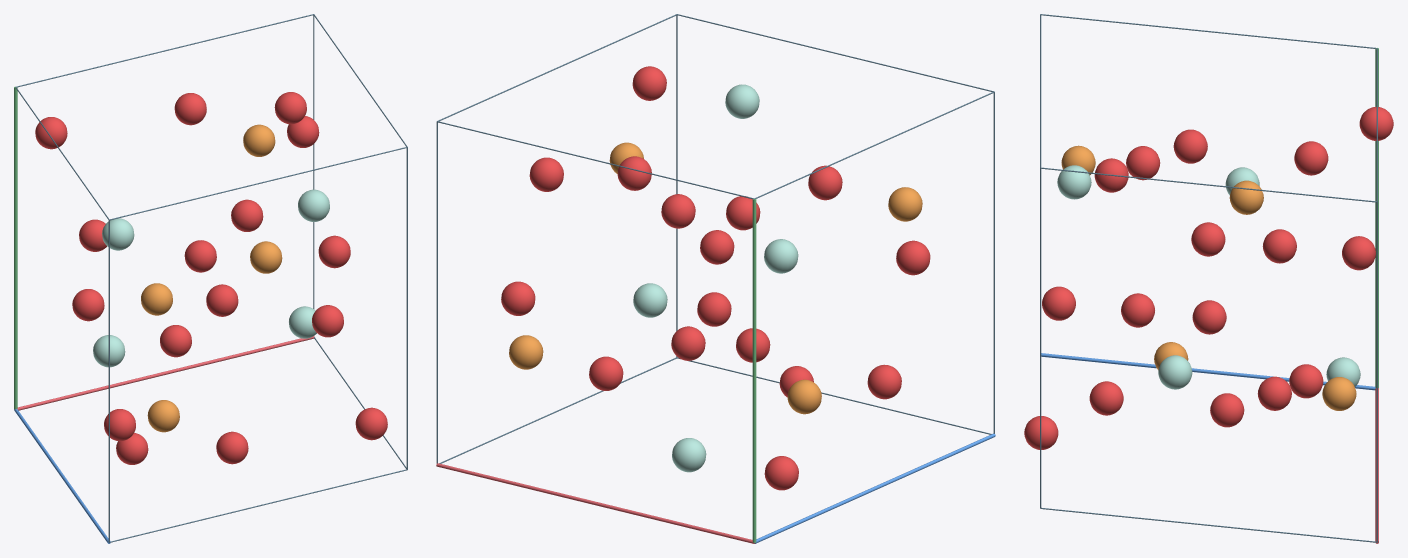
File: monazite.glb
3 views of the same model, side by side, from view 1: azimuth 30°, elevation 25°; view 2: azimuth 150°, elevation 25°; view 3: azimuth 270°, elevation 25° (orthographic). The views are drawn at different scales.
Parts seen in each view (by area): view 1: Ô mạng và các trục a, b, c, O3 · O · 1 (×4), P · P · 1 (×4), O2 · O · 1 (×4), O4 · O · 1 (×4), Ce · Ce · 1 (×4), O1 · O · 1 (×4); view 2: Ô mạng và các trục a, b, c, Ce · Ce · 1 (×4), O4 · O · 1 (×4), O1 · O · 1 (×4), O2 · O · 1 (×4), P · P · 1 (×3), O3 · O · 1 (×3); view 3: Ô mạng và các trục a, b, c, O1 · O · 1 (×4), O3 · O · 1 (×4), O4 · O · 1 (×4), O2 · O · 1 (×4), Ce · Ce · 1 (×4), P · P · 1 (×4).
Part boxes in pixels (x1=…): Ô mạng và các trục a, b, c: x1=14, y1=14, x2=407, y2=543; O3 · O · 1 (×4): x1=72, y1=93, x2=350, y2=464; P · P · 1 (×4): x1=141, y1=124, x2=282, y2=432; O2 · O · 1 (×4): x1=35, y1=117, x2=387, y2=440; O4 · O · 1 (×4): x1=104, y1=116, x2=319, y2=441; Ce · Ce · 1 (×4): x1=93, y1=189, x2=329, y2=367; O1 · O · 1 (×4): x1=79, y1=92, x2=343, y2=464; Ô mạng và các trục a, b, c: x1=436, y1=14, x2=995, y2=543; Ce · Ce · 1 (×4): x1=633, y1=84, x2=798, y2=472; O4 · O · 1 (×4): x1=529, y1=157, x2=901, y2=399; O1 · O · 1 (×4): x1=632, y1=66, x2=798, y2=490; O2 · O · 1 (×4): x1=661, y1=194, x2=770, y2=362; P · P · 1 (×3): x1=509, y1=187, x2=922, y2=414; O3 · O · 1 (×3): x1=501, y1=156, x2=930, y2=315; Ô mạng và các trục a, b, c: x1=1040, y1=14, x2=1378, y2=543; O1 · O · 1 (×4): x1=1042, y1=129, x2=1375, y2=427; O3 · O · 1 (×4): x1=1089, y1=141, x2=1328, y2=415; O4 · O · 1 (×4): x1=1094, y1=158, x2=1323, y2=398; O2 · O · 1 (×4): x1=1024, y1=107, x2=1393, y2=449; Ce · Ce · 1 (×4): x1=1057, y1=165, x2=1360, y2=389; P · P · 1 (×4): x1=1061, y1=145, x2=1356, y2=410.
Size of the model in its own units: 8.33 by 7.58 by 6.91.
